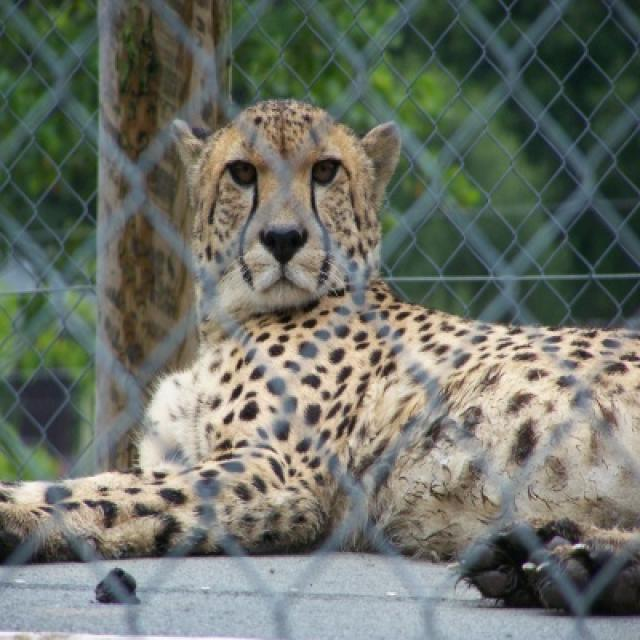Cheetah: (2, 88, 638, 619)
